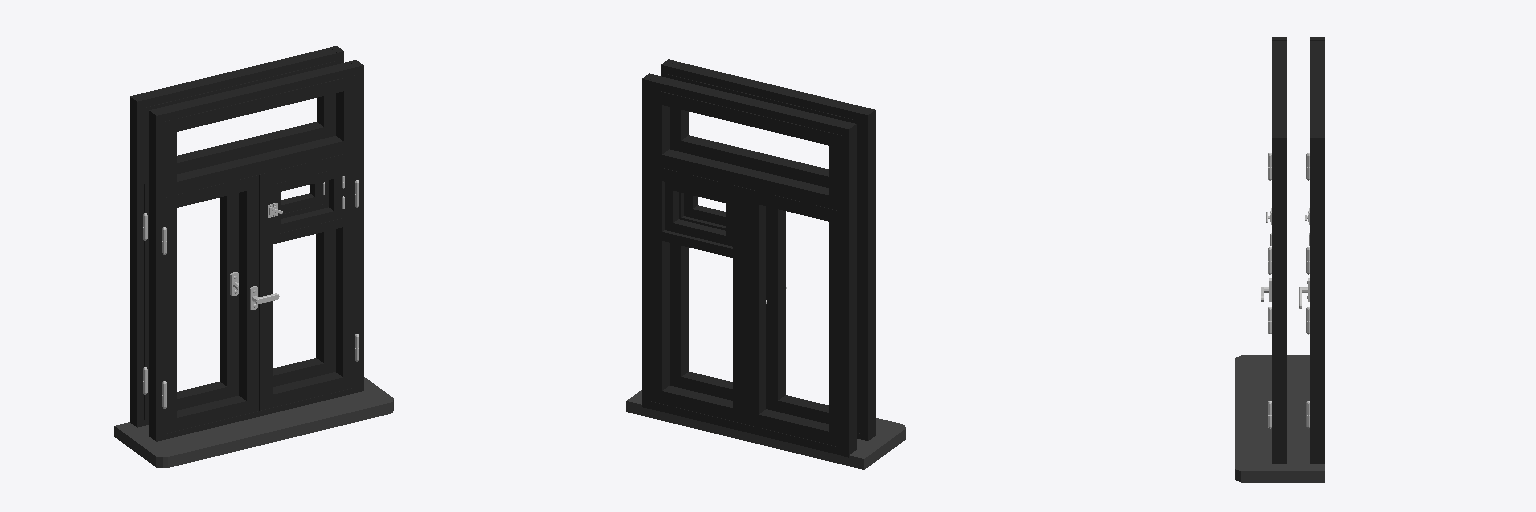
File: Window_001 no glass.obj
The picture shows the model from 3 angles: view 1: azimuth 30°, elevation 25°; view 2: azimuth 150°, elevation 25°; view 3: azimuth 270°, elevation 25°; orthographic projection.
Bounding box in the file's own units: 119 × 162 × 39.43.